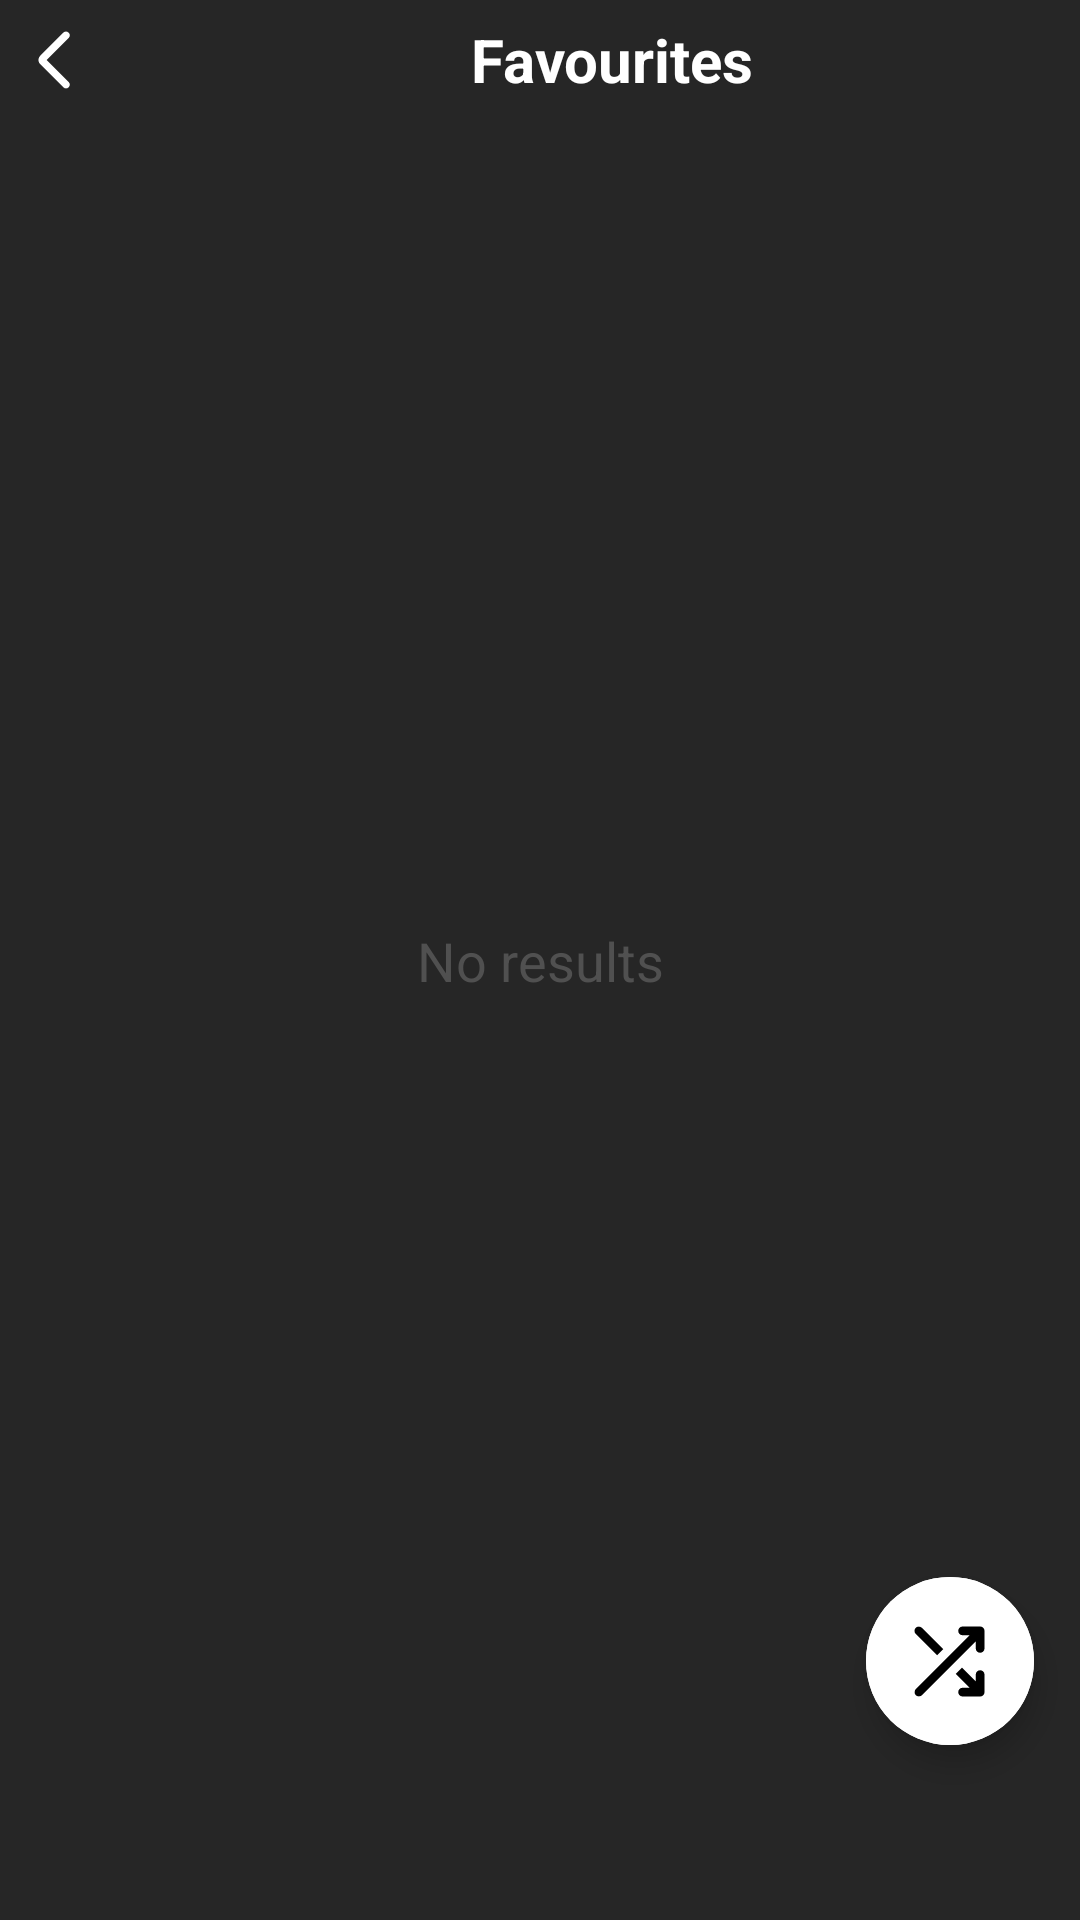

Where to tap for icons on this 1080px×1920px app screen, as [x,y]:
back: [54,60]
